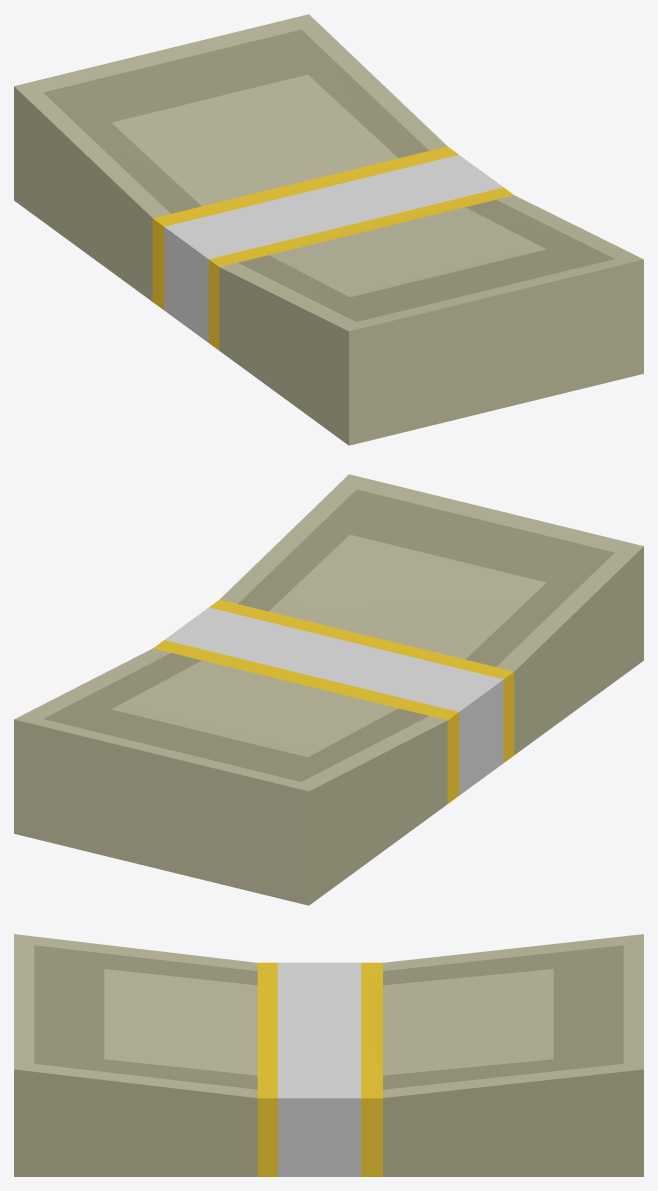
Rendered from MoneyStack.glb.
The picture shows the model from 3 angles, top to bottom: view 1: azimuth 30°, elevation 25°; view 2: azimuth 150°, elevation 25°; view 3: azimuth 270°, elevation 25°; orthographic projection. The views are drawn at different scales.
Visible parts, largest first — view 1: SI_Prop_MoneyStack_01; view 2: SI_Prop_MoneyStack_01; view 3: SI_Prop_MoneyStack_01.
Boxes of the visible parts, x1=… form: SI_Prop_MoneyStack_01: x1=14, y1=14, x2=643, y2=445; SI_Prop_MoneyStack_01: x1=14, y1=474, x2=643, y2=905; SI_Prop_MoneyStack_01: x1=14, y1=934, x2=643, y2=1176.
Size of the model in its own units: 0.00156 by 0.000578 by 0.00307.
1 material, 1 textured.
